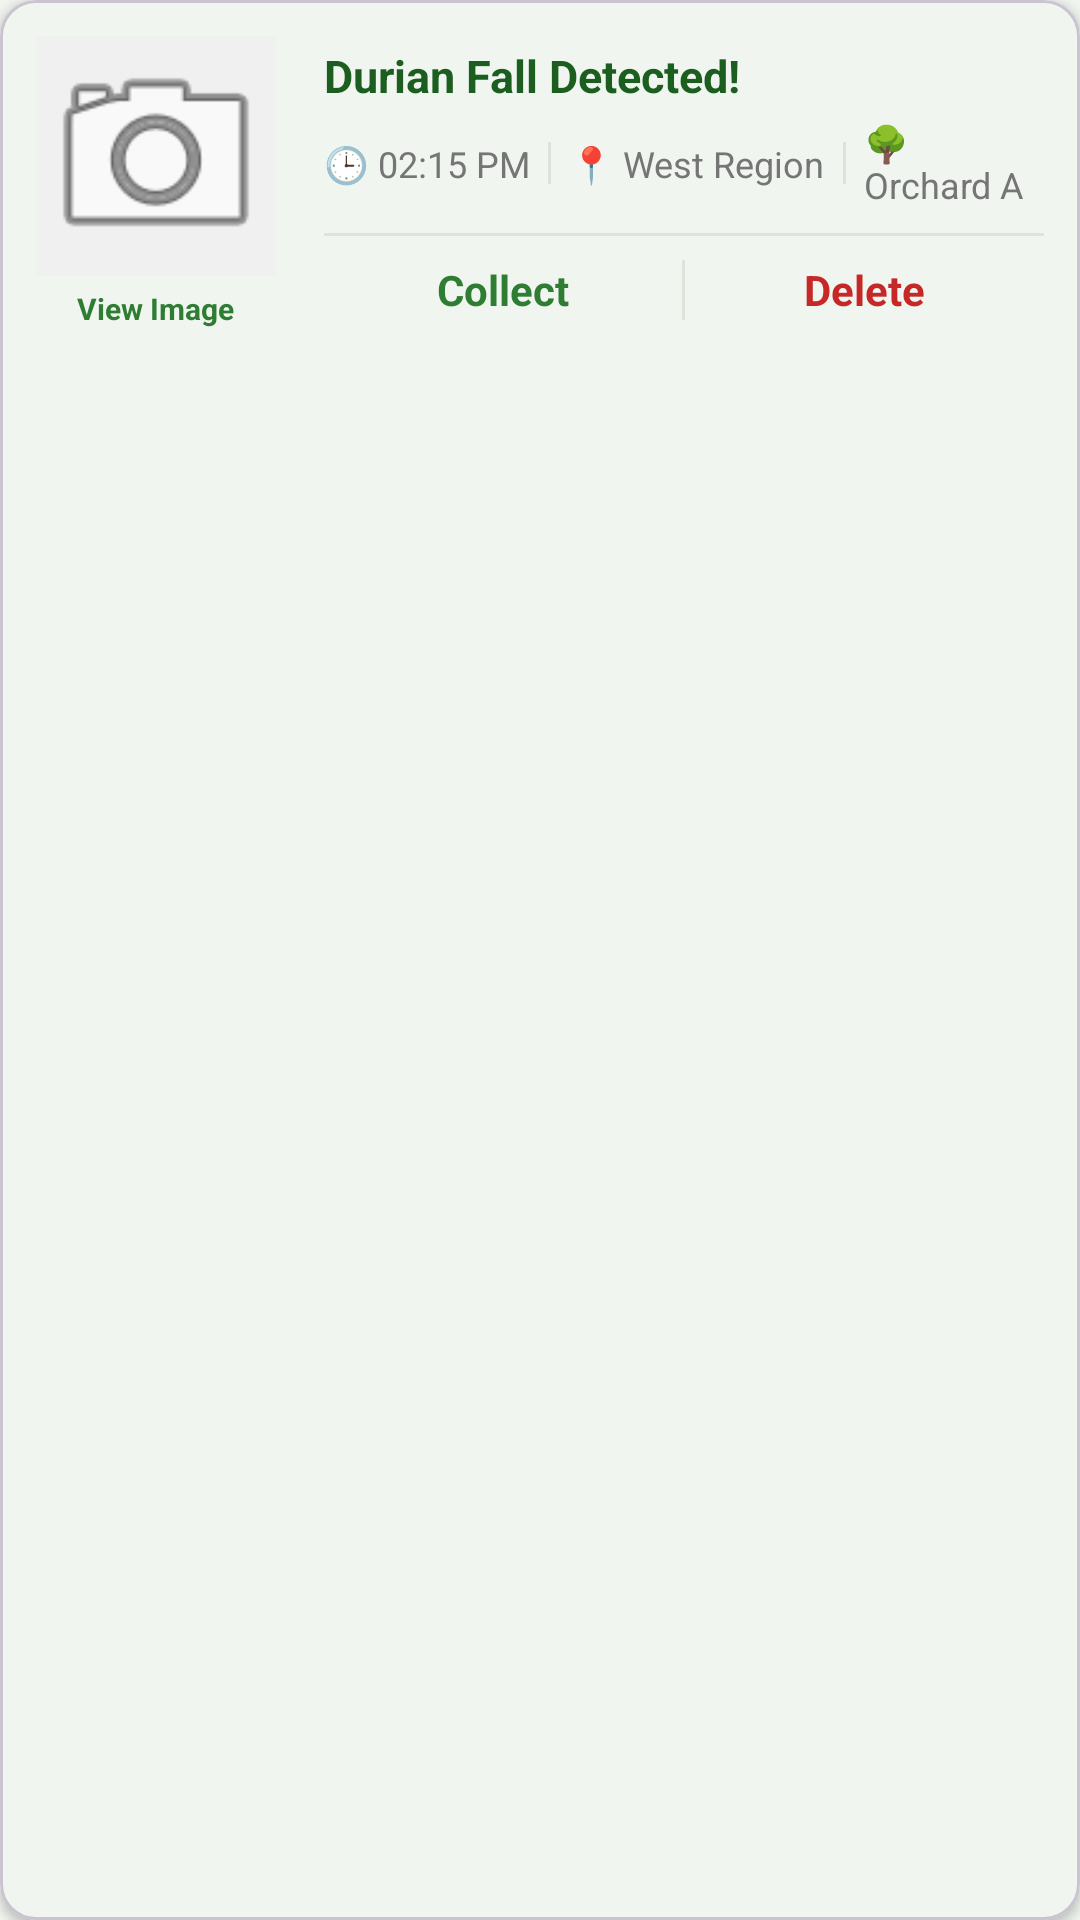

Where to tap for icons on this 1080px×1920px app screen, as (x,y):
camera: (156,152)
